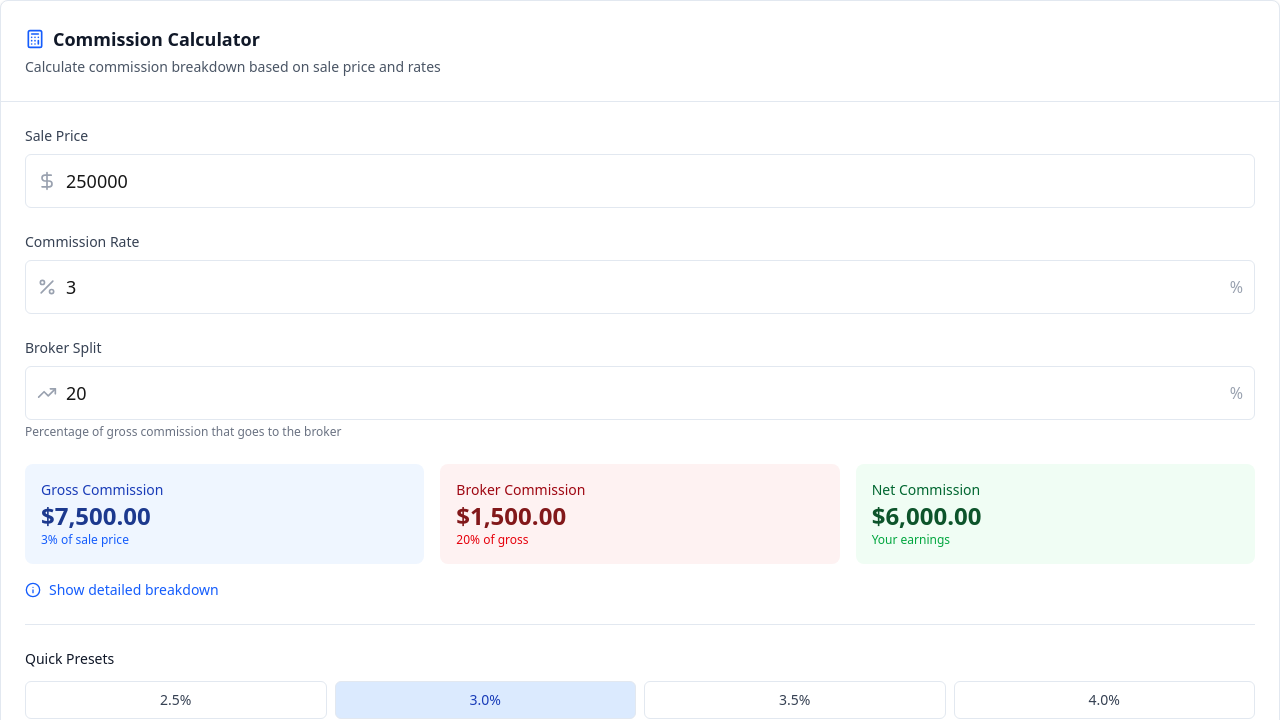
it: CommissionCalculator › should toggle detailed breakdown
The image size is (1280, 720).
expect the text "Show detailed breakdown" is shown: met, box [49,580,219,600]
Click the button "Show detailed breakdown".
click(122, 590)  # box [25,580,219,600]
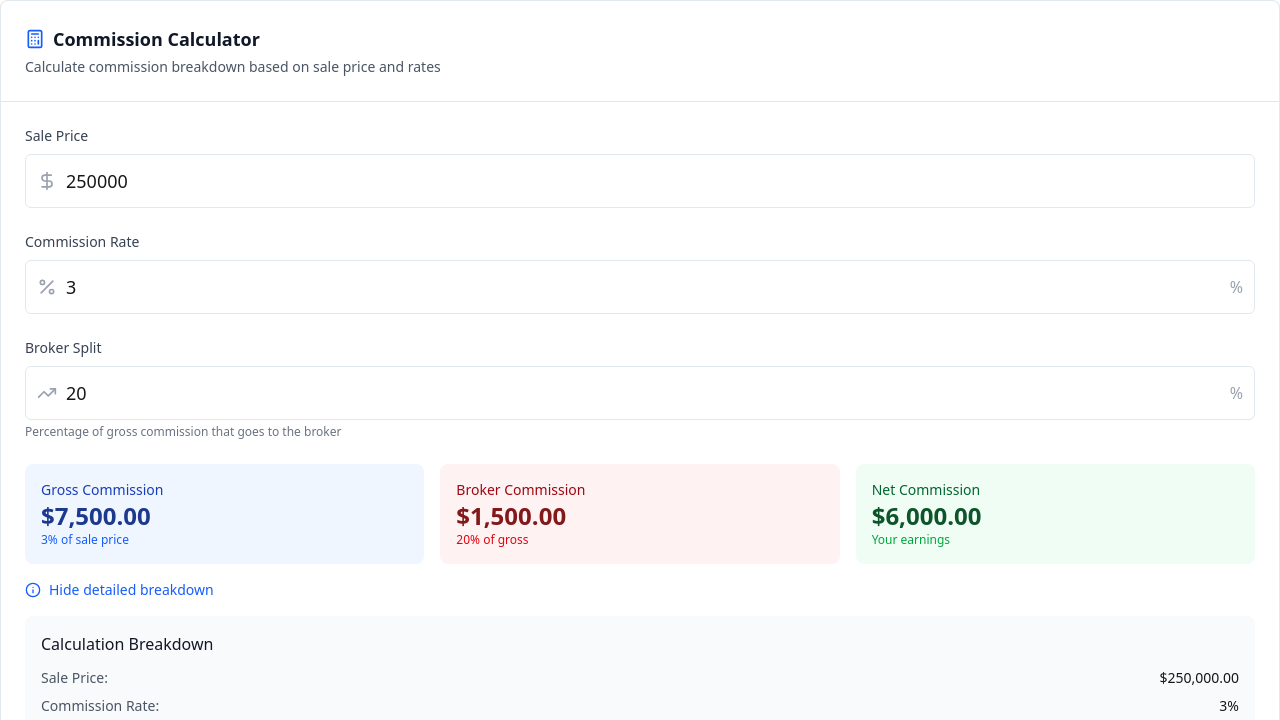
expect the text "Hide detailed breakdown" is shown: met, box [49,580,214,600]
expect the heading "Calculation Breakdown" is shown: met, box [41,633,213,655]
